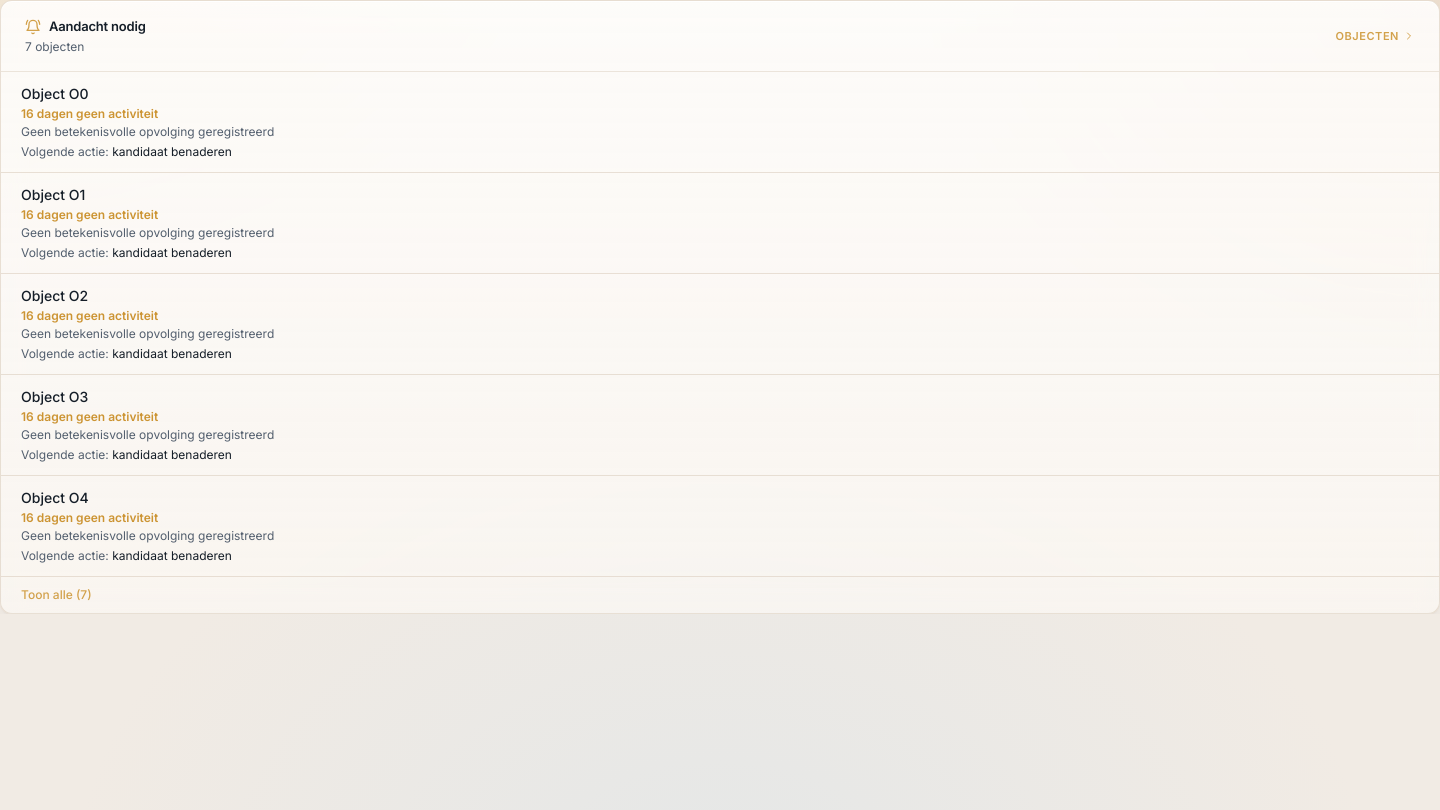
Test case: DashboardAandacht › toont er maximaal 5 en kan de rest uitklappen
expect the number of elements with test id "aandacht-regel" is 5: met, box [21,84,274,158]; [1,172,1439,272]; [1,272,1439,374]; [1,374,1439,474]; [1,474,1439,576]
Click the button "Toon alle (7)": (56, 594) [1,576,1439,612]
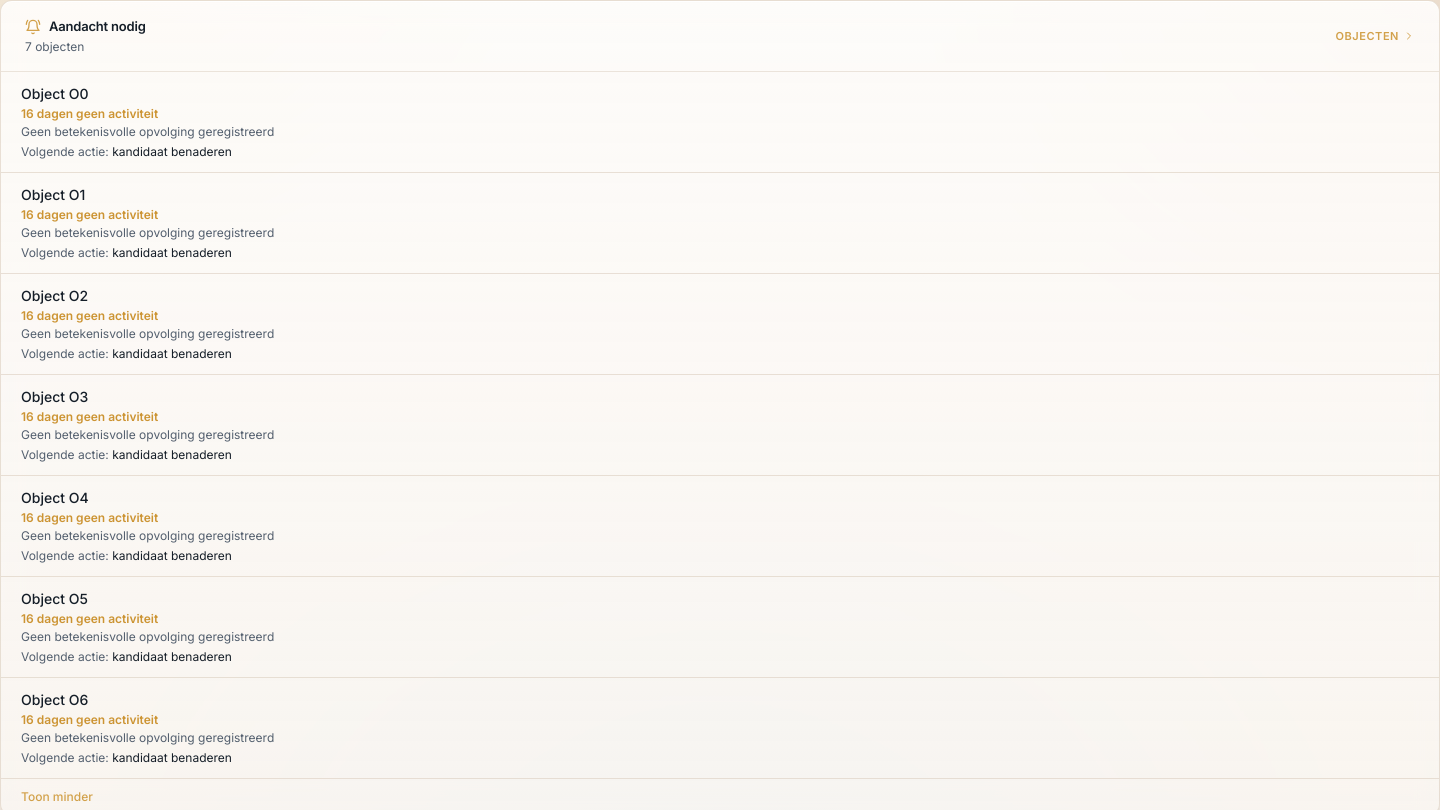
expect the number of elements with test id "aandacht-regel" is 7: met
